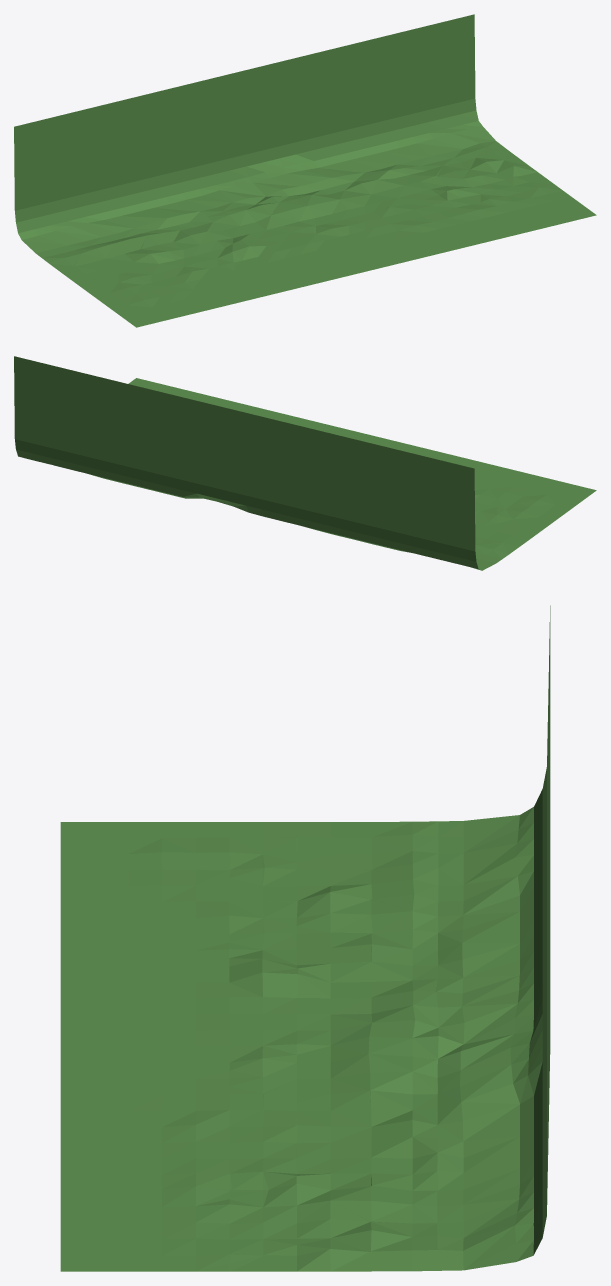
3 renders of one model, top to bottom at view 1: azimuth 30°, elevation 25°; view 2: azimuth 150°, elevation 25°; view 3: azimuth 270°, elevation 25°, orthographic. The views are drawn at different scales.
Visible parts, largest first — view 1: nurbsToPoly1; view 2: nurbsToPoly1; view 3: nurbsToPoly1.
Boxes of the visible parts, x1=… form: nurbsToPoly1: x1=14, y1=14, x2=596, y2=327; nurbsToPoly1: x1=14, y1=356, x2=596, y2=570; nurbsToPoly1: x1=60, y1=605, x2=550, y2=1271.
Bounding box in the file's own units: 1144 × 264 × 526.
